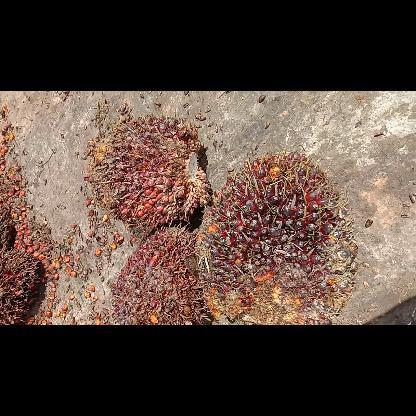Kurang masak: (90, 114, 212, 228)
TBS masak: (195, 152, 359, 324), (110, 223, 208, 324)
